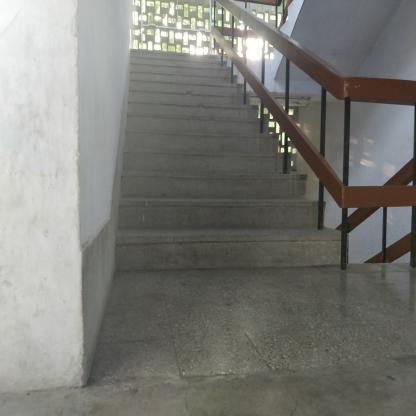stairs: (133, 68, 228, 283)
